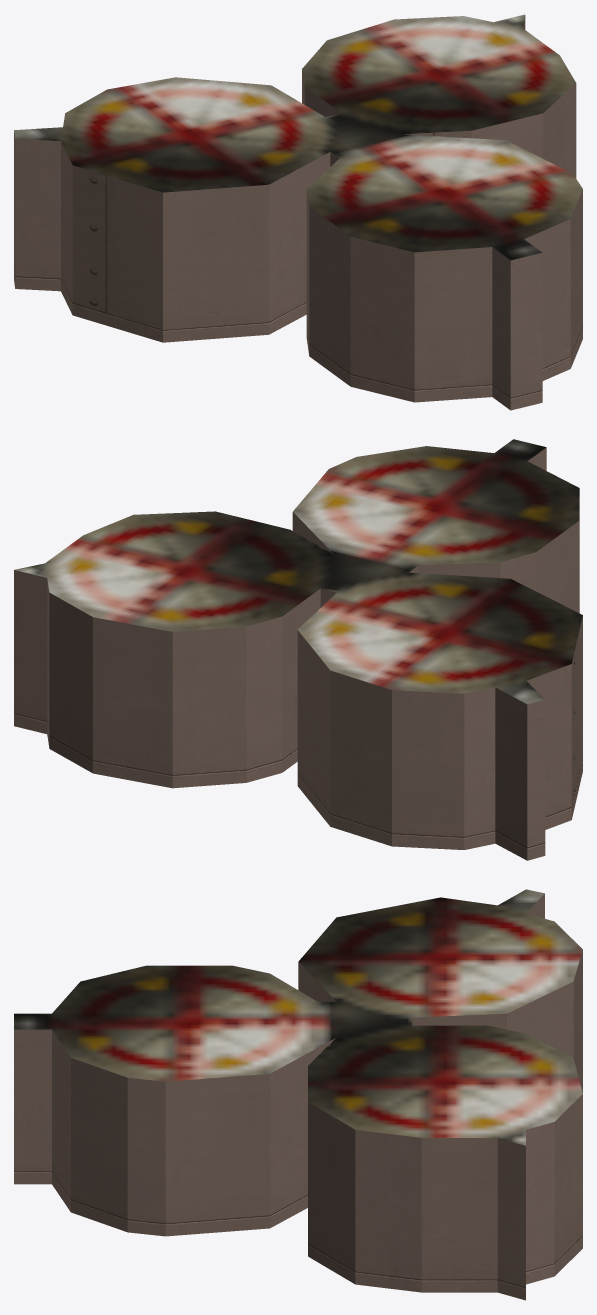
The model's file is fuel_tank_medium_42.glb.
3 renders of one model, top to bottom at view 1: azimuth 30°, elevation 25°; view 2: azimuth 150°, elevation 25°; view 3: azimuth 270°, elevation 25°, orthographic. The views are drawn at different scales.
Parts seen in each view (by area): view 1: buildings/saxarba/fuel_tanks/fuel_tank_medium_42; view 2: buildings/saxarba/fuel_tanks/fuel_tank_medium_42; view 3: buildings/saxarba/fuel_tanks/fuel_tank_medium_42.
Boxes of the visible parts, x1,y1,x2,y2 form: buildings/saxarba/fuel_tanks/fuel_tank_medium_42: [14, 14, 582, 410]; buildings/saxarba/fuel_tanks/fuel_tank_medium_42: [14, 439, 582, 860]; buildings/saxarba/fuel_tanks/fuel_tank_medium_42: [14, 889, 582, 1300].
Bounding box in the file's own units: 64 × 18 × 60.
